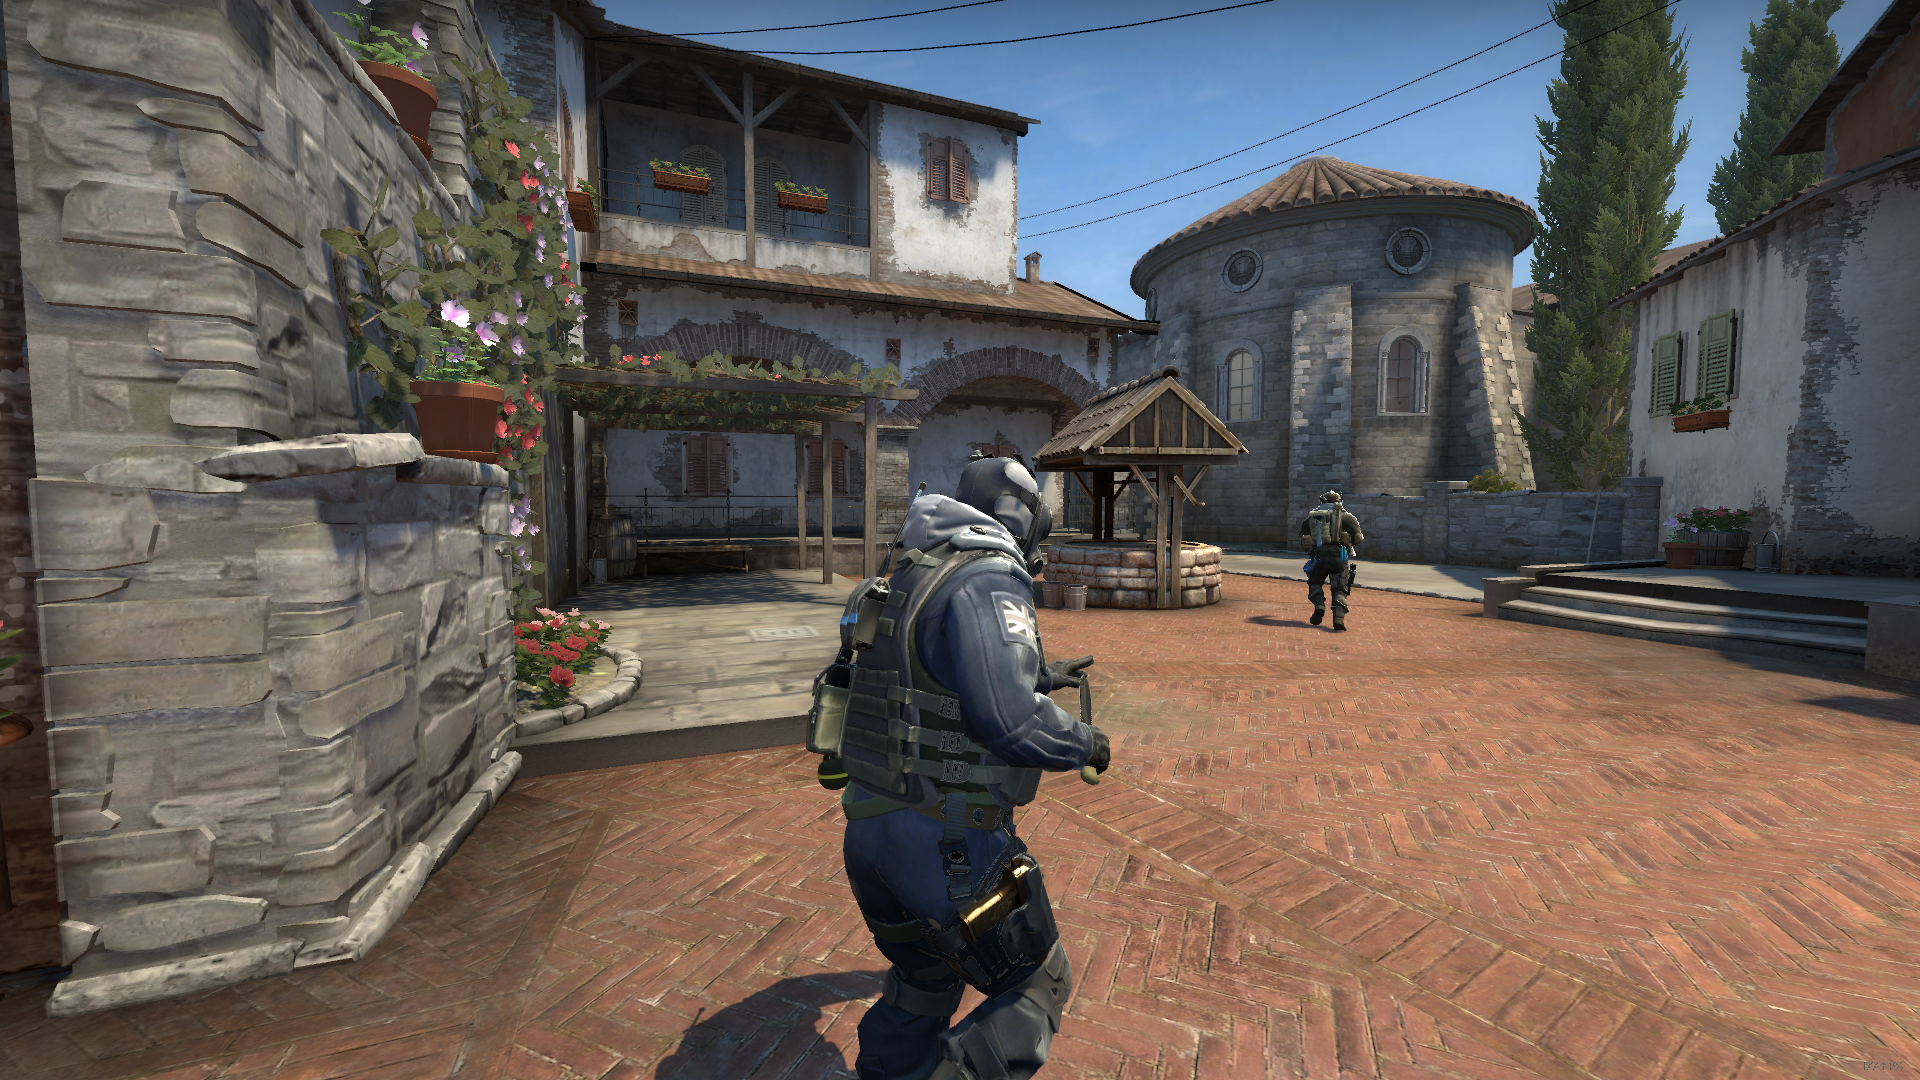ct: (811, 451, 1114, 1080)
